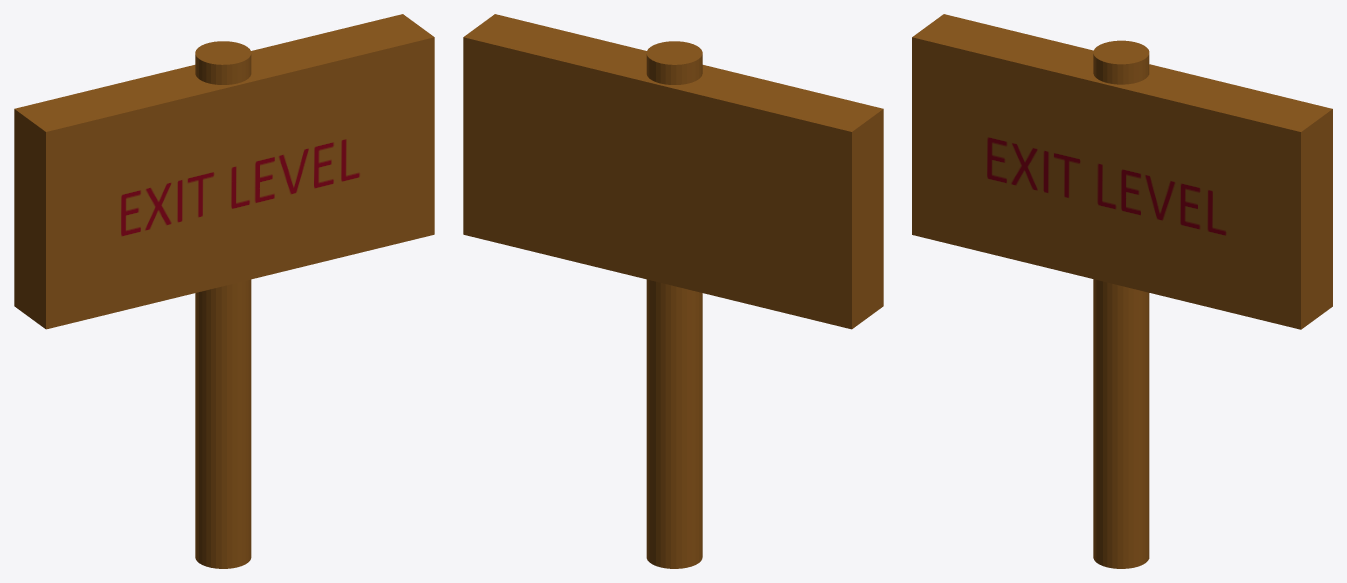
File: sign.fbx
3 views of the same model, side by side, from view 1: azimuth 30°, elevation 25°; view 2: azimuth 150°, elevation 25°; view 3: azimuth 330°, elevation 25° (orthographic).
Parts seen in each view (by area): view 1: Cube, Cylinder; view 2: Cube, Cylinder; view 3: Cube, Cylinder.
Part boxes in pixels (<box>): Cube: <box>14,14,434,329</box>; Cylinder: <box>195,41,251,568</box>; Cube: <box>463,14,883,329</box>; Cylinder: <box>646,41,702,568</box>; Cube: <box>912,14,1332,329</box>; Cylinder: <box>1093,40,1149,568</box>.
Size of the model in its own units: 0.5827 by 4.12 by 5.11.
Materials: 2 (1 with a texture image).
